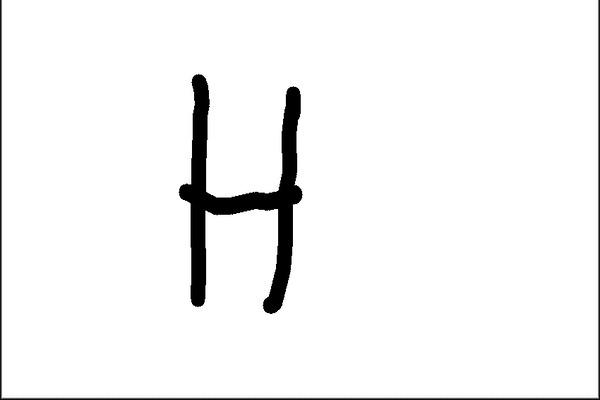H: (177, 67, 311, 318)
